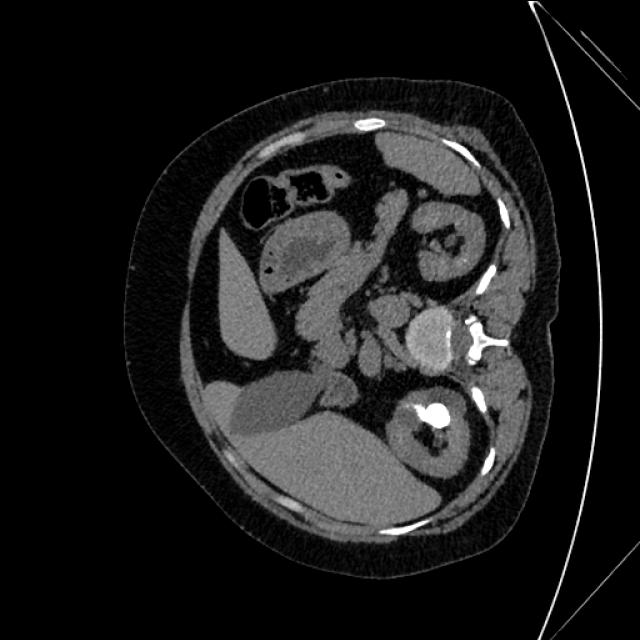kidneystone: (411, 401, 449, 424)
